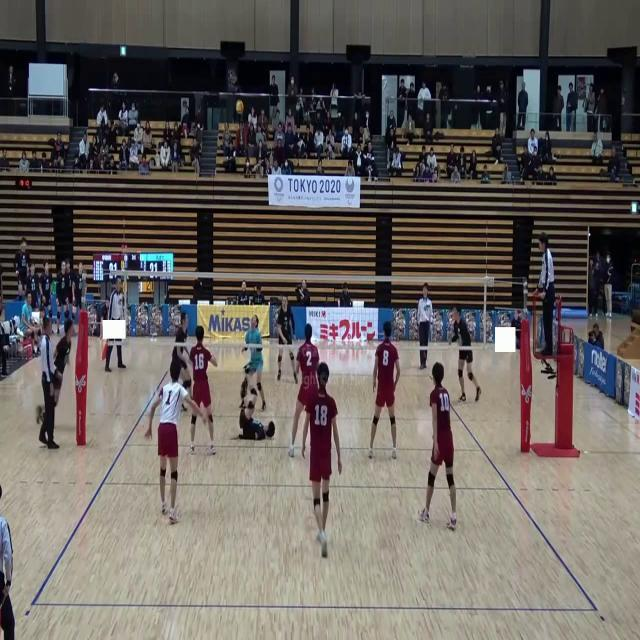volleyball: (236, 100, 243, 114)
